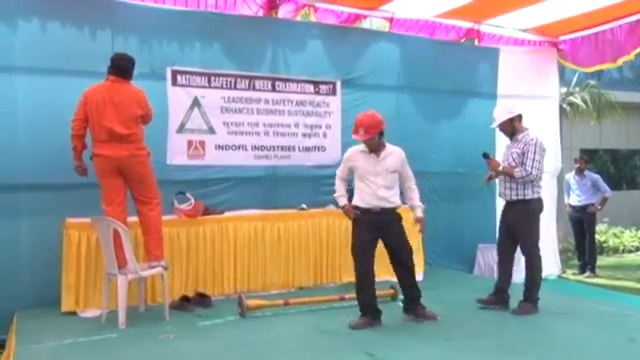helmet: (348, 109, 387, 142), (487, 100, 523, 130)
helmet_off: (106, 52, 135, 80), (570, 152, 588, 175)
helmet_on: (348, 109, 390, 157), (485, 99, 529, 141)
person: (331, 109, 439, 331), (70, 52, 172, 271), (481, 98, 547, 317), (563, 150, 612, 280)
